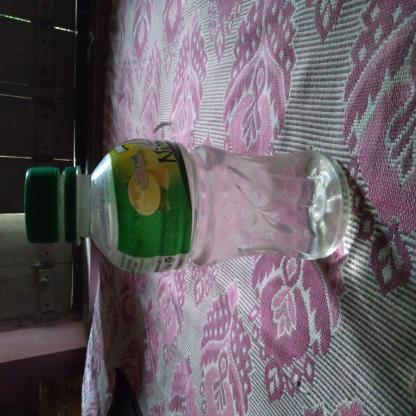bottle: (107, 29, 209, 416)
